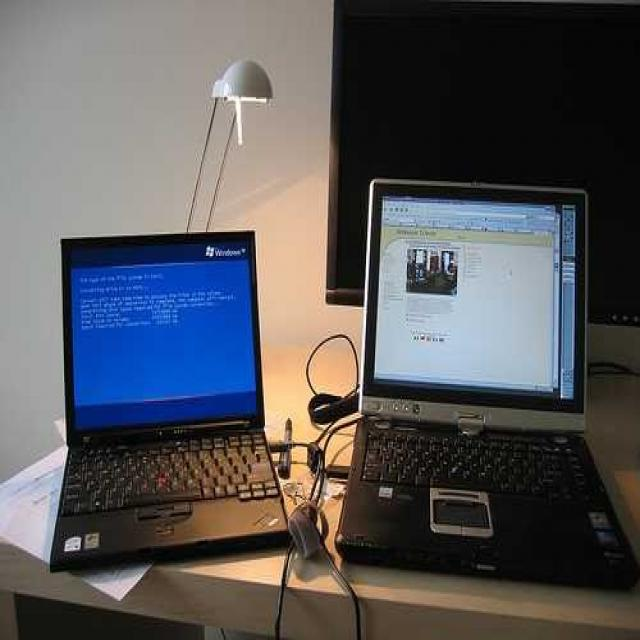laptop: (348, 174, 604, 551), (51, 223, 295, 574)
